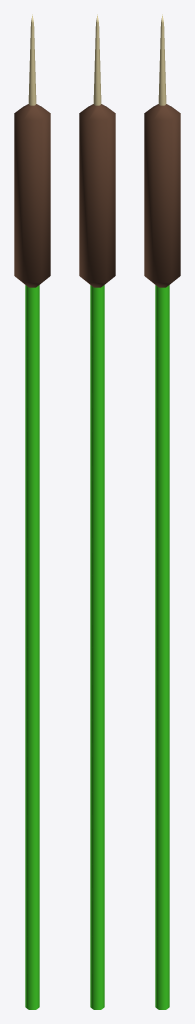
File: cattail.fbx
3 views of the same model, side by side, from view 1: azimuth 30°, elevation 25°; view 2: azimuth 210°, elevation 25°; view 3: azimuth 330°, elevation 25° (orthographic).
Visible parts, largest first — view 1: cattail; view 2: cattail; view 3: cattail.
Part boxes in pixels (x1=…): cattail: x1=14, y1=14, x2=50, y2=1009; cattail: x1=79, y1=14, x2=115, y2=1009; cattail: x1=144, y1=14, x2=180, y2=1009.
Bounding box in the file's own units: 31.73 × 1100 × 36.64.
